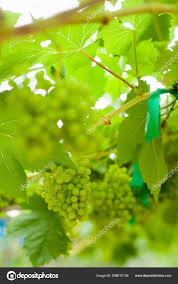grapes: (42, 160, 96, 224)
